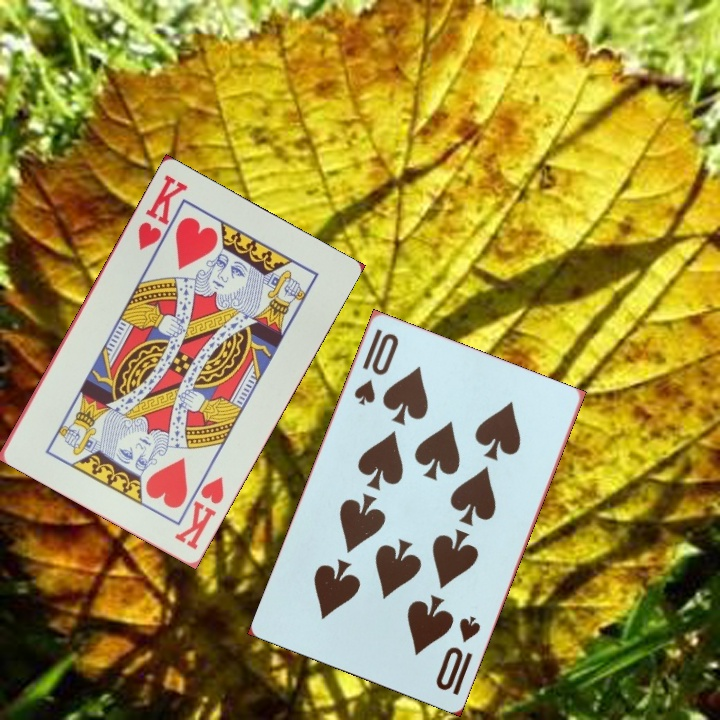10s: (431, 612, 483, 698), (350, 324, 401, 408)
Kh: (133, 170, 191, 253), (170, 472, 227, 552)
